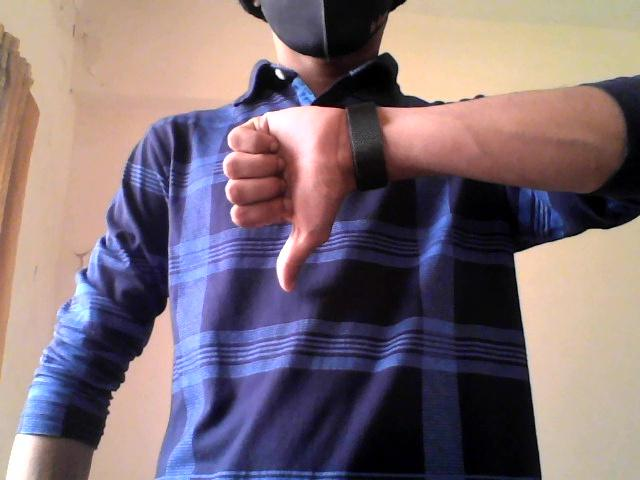thumbs-down: (199, 104, 389, 299)
